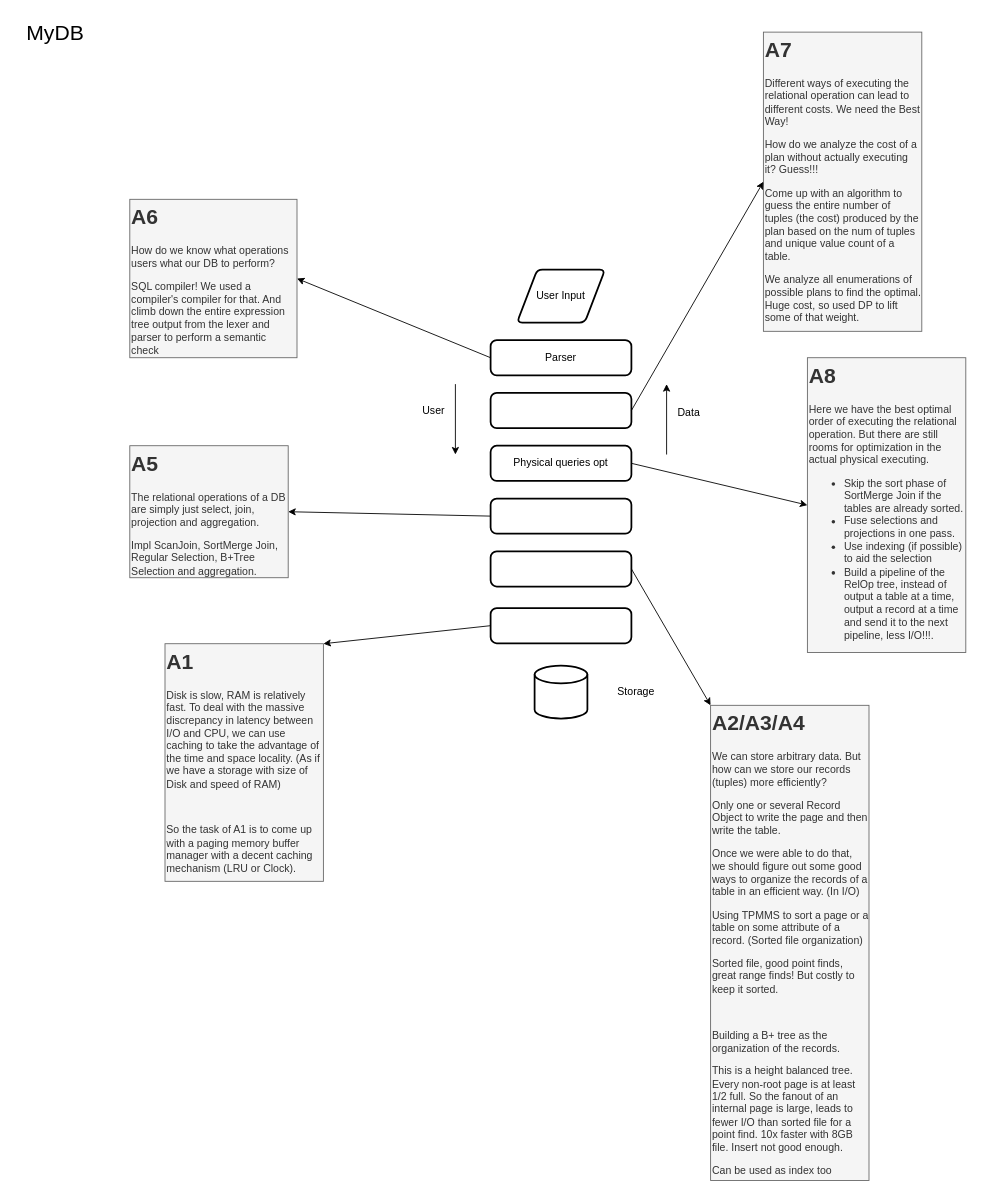
Some shapes in this 981 by 1198 pixel diagram are drawn without their labels. The shapes that lost their labels are listed below. From the top down, each one's centre as x and y in pixels, then its label:
(560,410): logical queries opt
(560,515): Exec Engine
(560,568): file/records/index manager
(560,625): Buffer/memory manager
